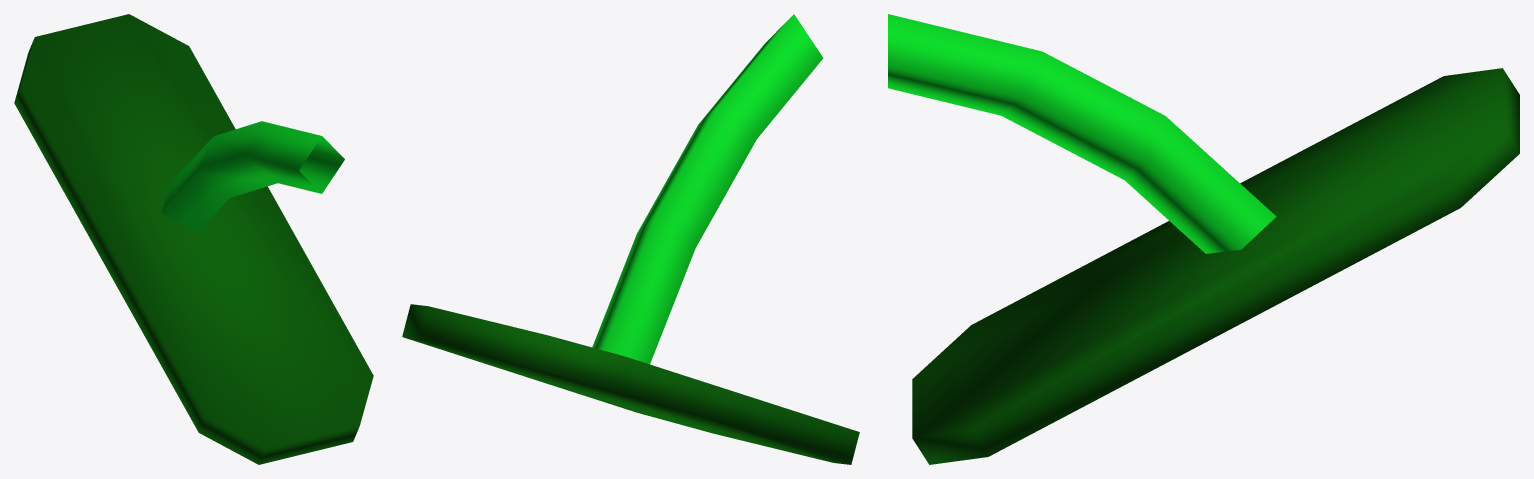
File: VC_GasPedal_01.fbx
3 renders of one model, left to right at view 1: azimuth 30°, elevation 25°; view 2: azimuth 150°, elevation 25°; view 3: azimuth 270°, elevation 25°, orthographic. The views are drawn at different scales.
Visible parts, largest first — view 1: VC_GasPedal_low; view 2: VC_GasPedal_low; view 3: VC_GasPedal_low.
Boxes of the visible parts, x1,y1,x2,y2 form: VC_GasPedal_low: (14,14,373,464); VC_GasPedal_low: (402,14,859,464); VC_GasPedal_low: (888,14,1519,464).
Bounding box in the file's own units: 0.0728 × 0.1362 × 0.185.
